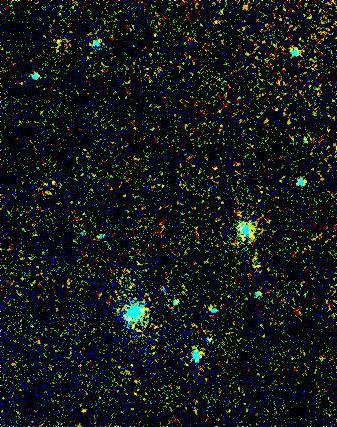star: (45, 27, 75, 57)
